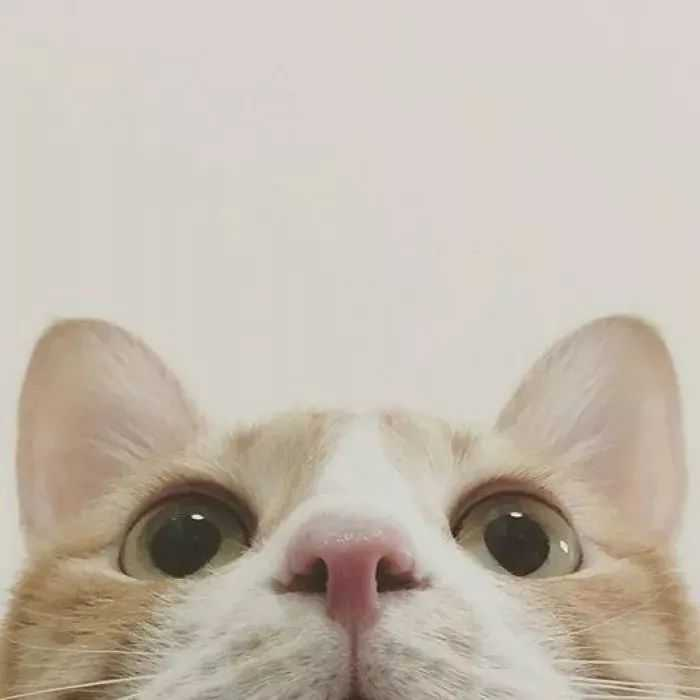cat: (8, 303, 700, 691)
